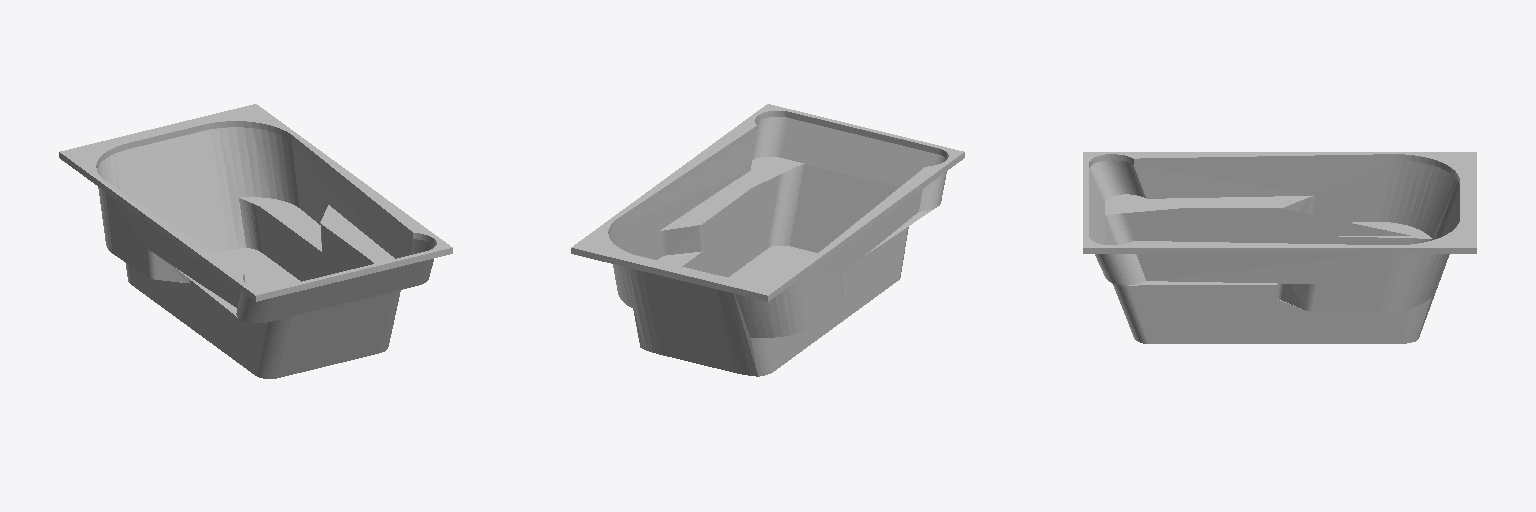
Rendered from OSIRIS_BLANCA.obj.
3 views of the same model, side by side, from view 1: azimuth 30°, elevation 25°; view 2: azimuth 150°, elevation 25°; view 3: azimuth 270°, elevation 25° (orthographic).
Visible parts, largest first — view 1: Mesh1 Group1 Model; view 2: Mesh1 Group1 Model; view 3: Mesh1 Group1 Model.
Boxes of the visible parts, <box> form: Mesh1 Group1 Model: <box>59,104,452,378</box>; Mesh1 Group1 Model: <box>571,104,964,376</box>; Mesh1 Group1 Model: <box>1083,152,1476,343</box>.
Size of the model in its own units: 88 by 48 by 152.